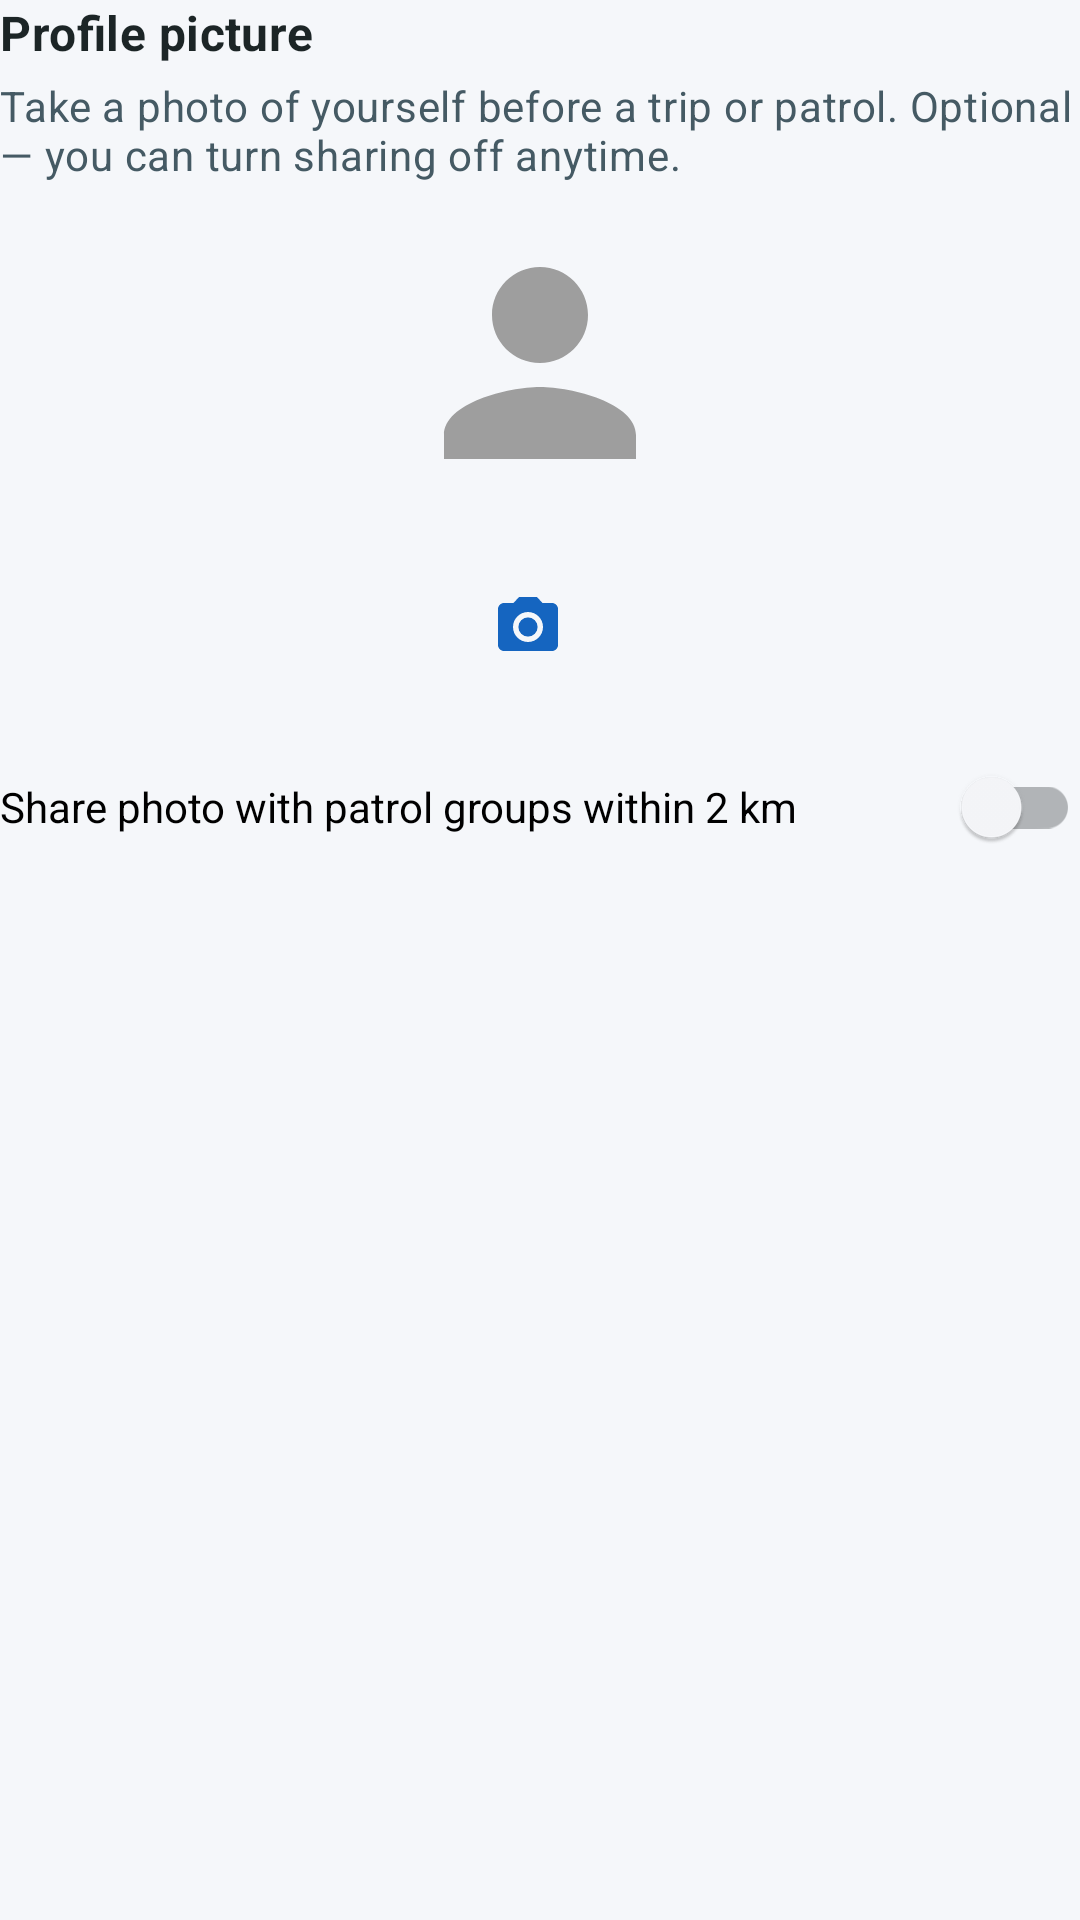

Screen size 1080 x 1920. Icon name, then its center in pixels as [x,y]:
Take photo with camera: [528,624]
